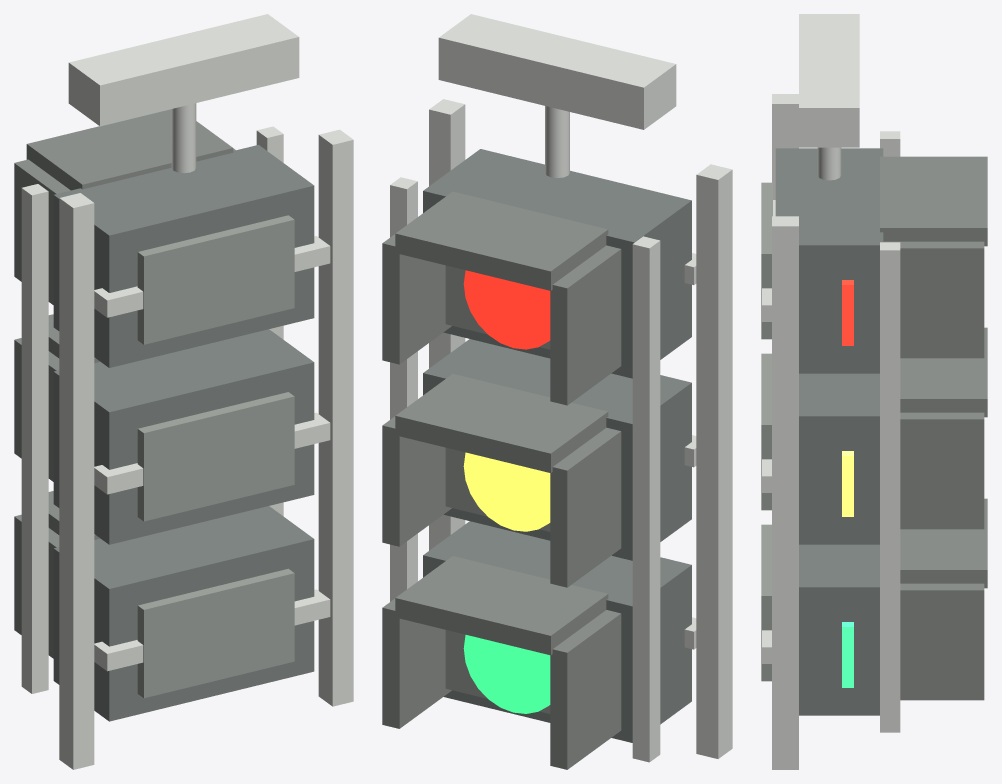
The model's file is traffic_signal_heads.glb.
3 views of the same model, side by side, from view 1: azimuth 30°, elevation 25°; view 2: azimuth 150°, elevation 25°; view 3: azimuth 270°, elevation 25° (orthographic). The views are drawn at different scales.
Visible parts, largest first — view 1: traffic_signal_heads_red_separate_rectangular_housing_lighte, traffic_signal_heads_yellow_separate_rectangular_housing_lig, traffic_signal_heads_green_separate_rectangular_housing_ligh, traffic_signal_heads_left_rear_vertical_backing_rail_bright, traffic_signal_heads_right_rear_vertical_backing_rail_bright, traffic_signal_heads_bright_overhead_mount_clamp, traffic_signal_heads_red_rear_gray_service_panel, traffic_signal_heads_green_rear_gray_service_panel, traffic_signal_heads_yellow_rear_gray_service_panel, traffic_signal_heads_left_side_hinge_strip_bright_edge, traffic_signal_heads_red_top_sun_hood, traffic_signal_heads_red_left_side_sun_hood (+7 smaller); view 2: traffic_signal_heads_left_rear_vertical_backing_rail_bright, traffic_signal_heads_red_separate_rectangular_housing_lighte, traffic_signal_heads_bright_overhead_mount_clamp, traffic_signal_heads_left_side_hinge_strip_bright_edge, traffic_signal_heads_green_separate_rectangular_housing_ligh, traffic_signal_heads_yellow_separate_rectangular_housing_lig, traffic_signal_heads_red_top_sun_hood, traffic_signal_heads_green_top_sun_hood, traffic_signal_heads_yellow_top_sun_hood, traffic_signal_heads_green_left_side_sun_hood, traffic_signal_heads_red_left_side_sun_hood, traffic_signal_heads_yellow_left_side_sun_hood (+12 smaller); view 3: traffic_signal_heads_red_separate_rectangular_housing_lighte, traffic_signal_heads_right_rear_vertical_backing_rail_bright, traffic_signal_heads_yellow_separate_rectangular_housing_lig, traffic_signal_heads_green_separate_rectangular_housing_ligh, traffic_signal_heads_right_side_latch_strip_bright_edge, traffic_signal_heads_red_right_side_sun_hood, traffic_signal_heads_yellow_right_side_sun_hood, traffic_signal_heads_green_right_side_sun_hood, traffic_signal_heads_red_top_sun_hood, traffic_signal_heads_bright_overhead_mount_clamp, traffic_signal_heads_yellow_top_sun_hood, traffic_signal_heads_green_top_sun_hood (+9 smaller).
Part boxes in pixels (<box>): traffic_signal_heads_red_separate_rectangular_housing_lighte: <box>53,145,314,367</box>; traffic_signal_heads_yellow_separate_rectangular_housing_lig: <box>53,329,314,544</box>; traffic_signal_heads_green_separate_rectangular_housing_ligh: <box>53,506,314,721</box>; traffic_signal_heads_left_rear_vertical_backing_rail_bright: <box>59,193,94,769</box>; traffic_signal_heads_right_rear_vertical_backing_rail_bright: <box>318,129,353,706</box>; traffic_signal_heads_bright_overhead_mount_clamp: <box>68,14,299,126</box>; traffic_signal_heads_red_rear_gray_service_panel: <box>137,215,294,344</box>; traffic_signal_heads_green_rear_gray_service_panel: <box>137,568,294,698</box>; traffic_signal_heads_yellow_rear_gray_service_panel: <box>137,392,294,521</box>; traffic_signal_heads_left_side_hinge_strip_bright_edge: <box>21,184,48,693</box>; traffic_signal_heads_red_top_sun_hood: <box>26,109,233,190</box>; traffic_signal_heads_red_left_side_sun_hood: <box>14,159,70,304</box>; traffic_signal_heads_left_rear_vertical_backing_rail_bright: <box>696,164,732,758</box>; traffic_signal_heads_red_separate_rectangular_housing_lighte: <box>423,149,691,378</box>; traffic_signal_heads_bright_overhead_mount_clamp: <box>438,14,676,129</box>; traffic_signal_heads_left_side_hinge_strip_bright_edge: <box>632,236,660,762</box>; traffic_signal_heads_green_separate_rectangular_housing_ligh: <box>423,521,691,742</box>; traffic_signal_heads_yellow_separate_rectangular_housing_lig: <box>423,339,691,560</box>; traffic_signal_heads_red_top_sun_hood: <box>395,191,608,290</box>; traffic_signal_heads_green_top_sun_hood: <box>395,556,608,655</box>; traffic_signal_heads_yellow_top_sun_hood: <box>395,374,608,472</box>; traffic_signal_heads_green_left_side_sun_hood: <box>550,610,621,769</box>; traffic_signal_heads_red_left_side_sun_hood: <box>550,245,621,405</box>; traffic_signal_heads_yellow_left_side_sun_hood: <box>550,427,621,587</box>; traffic_signal_heads_red_separate_rectangular_housing_lighte: <box>775,148,883,373</box>; traffic_signal_heads_right_rear_vertical_backing_rail_bright: <box>772,216,798,769</box>; traffic_signal_heads_yellow_separate_rectangular_housing_lig: <box>799,373,879,544</box>; traffic_signal_heads_green_separate_rectangular_housing_ligh: <box>799,544,879,715</box>; traffic_signal_heads_right_side_latch_strip_bright_edge: <box>880,242,900,732</box>; traffic_signal_heads_red_right_side_sun_hood: <box>883,241,984,358</box>; traffic_signal_heads_yellow_right_side_sun_hood: <box>900,412,984,529</box>; traffic_signal_heads_green_right_side_sun_hood: <box>900,583,984,700</box>; traffic_signal_heads_red_top_sun_hood: <box>880,156,987,246</box>; traffic_signal_heads_bright_overhead_mount_clamp: <box>799,14,859,147</box>; traffic_signal_heads_yellow_top_sun_hood: <box>900,327,987,417</box>; traffic_signal_heads_green_top_sun_hood: <box>900,498,987,588</box>.
Bounding box in the file's own units: 0.93 × 2.11 × 0.6725.
